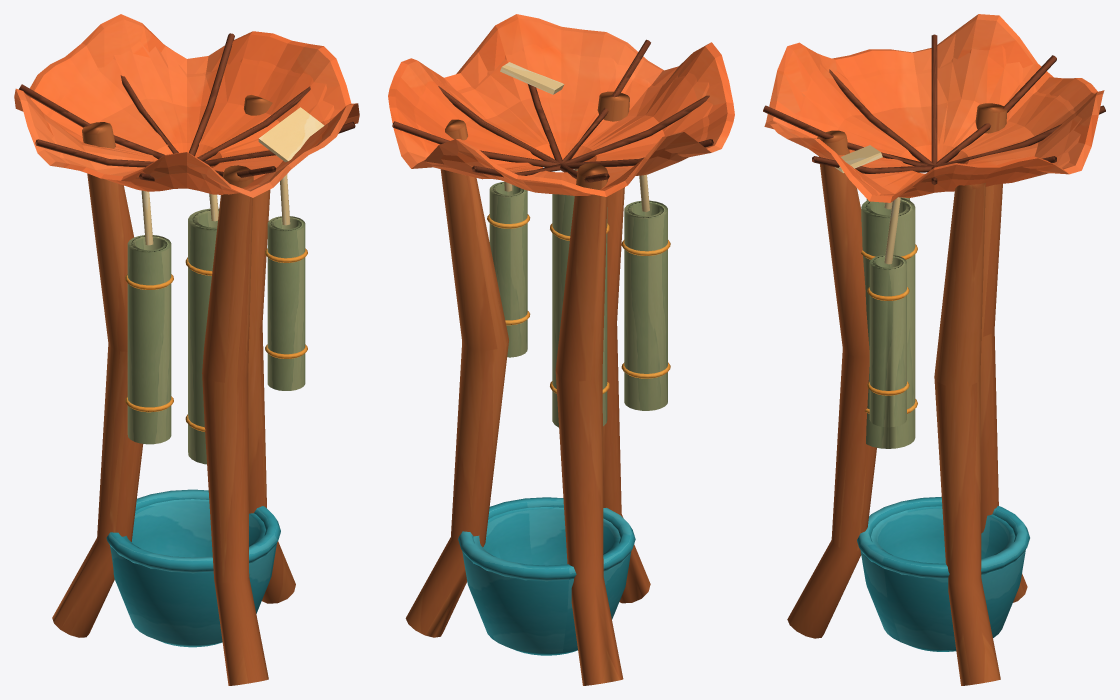
The model's file is 03_宫崎骏参考_水粉.glb.
The picture shows the model from 3 angles, left to right: view 1: azimuth 30°, elevation 25°; view 2: azimuth 150°, elevation 25°; view 3: azimuth 270°, elevation 25°; orthographic projection.
Parts seen in each view (by area): view 1: rain_tower; view 2: rain_tower; view 3: rain_tower.
Part boxes in pixels (x1,y1,x2,y2): rain_tower: (14, 14, 359, 685); rain_tower: (388, 14, 734, 685); rain_tower: (763, 14, 1105, 685).
Bounding box in the file's own units: 1.19 × 2.12 × 1.19.
Materials: 1 (1 with a texture image).
